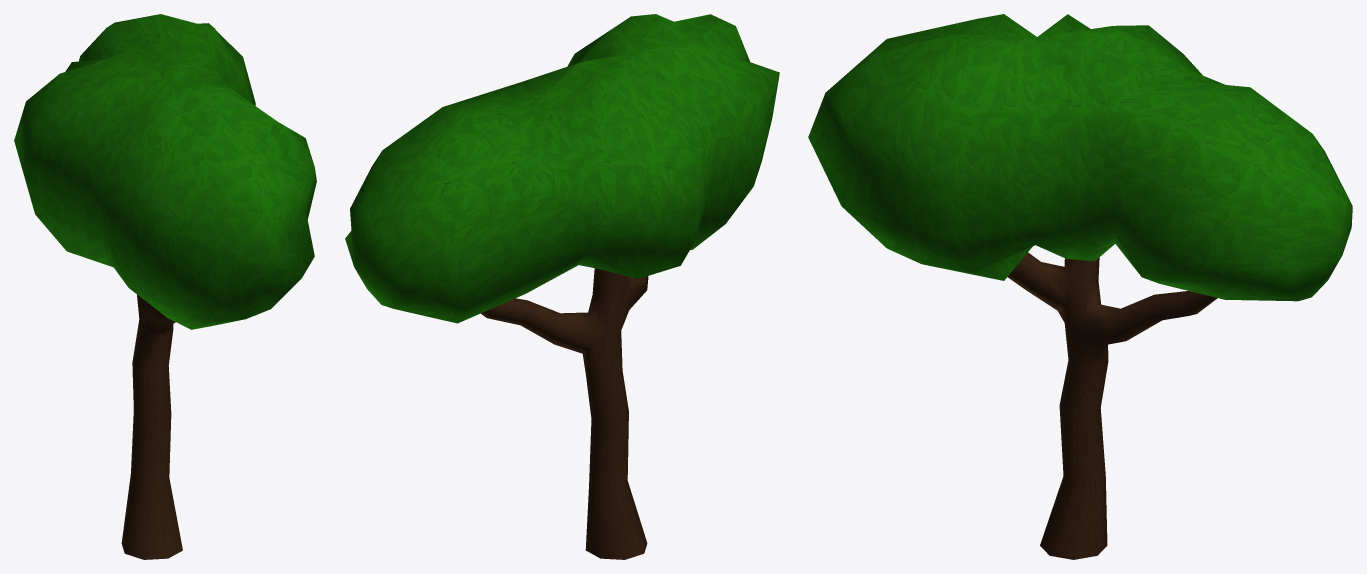
Rendered from Tree doubleY.fbx.
3 renders of one model, left to right at view 1: azimuth 30°, elevation 25°; view 2: azimuth 150°, elevation 25°; view 3: azimuth 270°, elevation 25°, orthographic. The views are drawn at different scales.
Parts seen in each view (by area): view 1: Circle.001; view 2: Circle.001; view 3: Circle.001.
Boxes of the visible parts, x1,y1,x2,y2 form: Circle.001: (14,14,316,559); Circle.001: (345,14,779,559); Circle.001: (808,14,1352,559).
Bounding box in the file's own units: 1515 × 2417 × 2527.
1 material, 1 textured.
